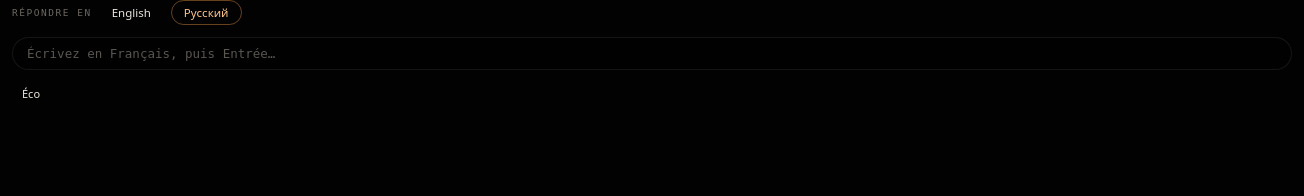
reply in the teammates’ language › quick phrases are copied without the model; errors are shown
The image size is (1304, 196).
Click the button "Éco" at (31, 94), box [22,86,40,101]
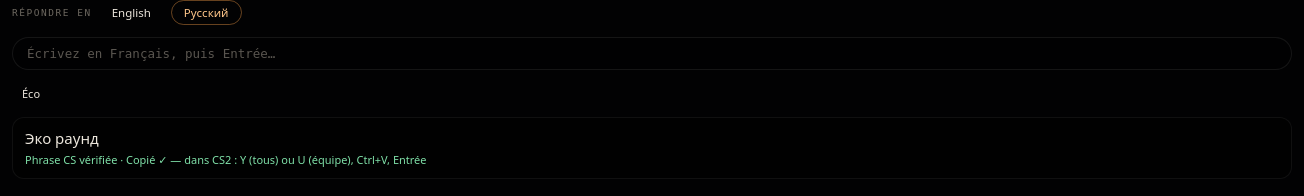
Type "on se regroupe" into the field named "Message (Français)" at (652, 54), box [12,37,1292,70]
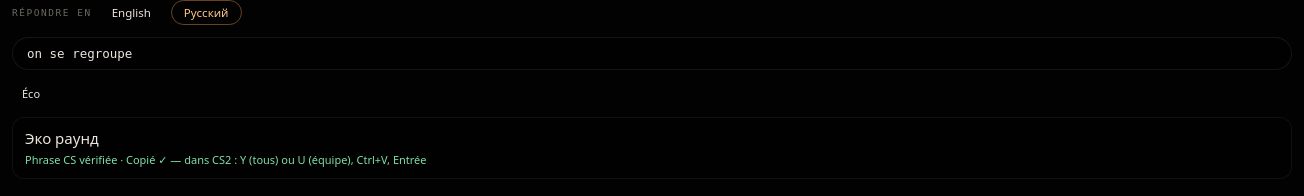
Press Enter in the field named "Message (Français)", box [12,37,1292,70]
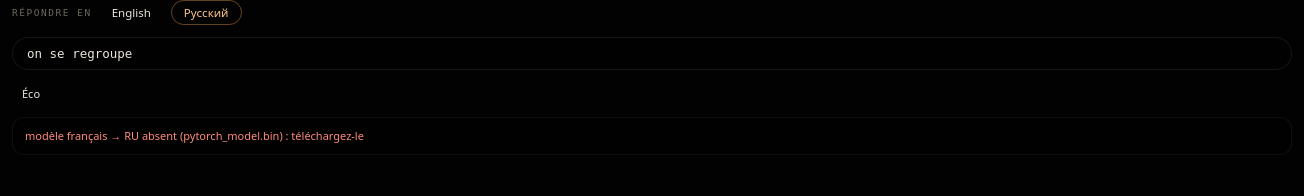
Expected: the text "téléchargez-le" is shown, [25,128,364,143]
